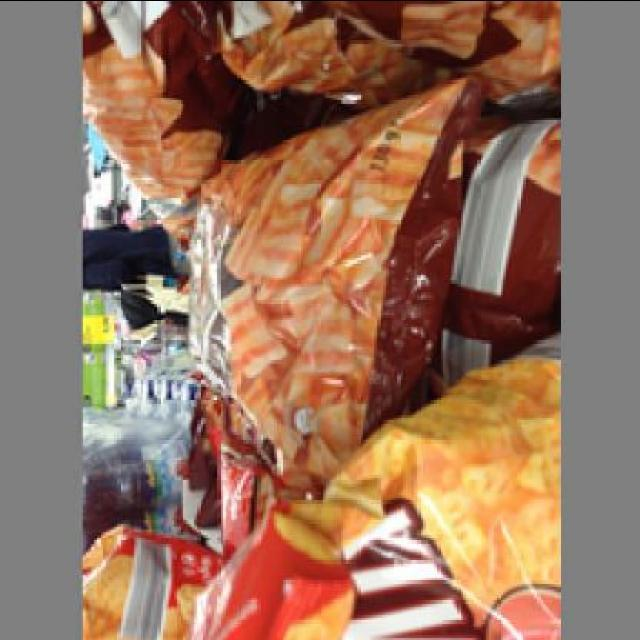Chips: (164, 60, 468, 471), (83, 3, 223, 257)
